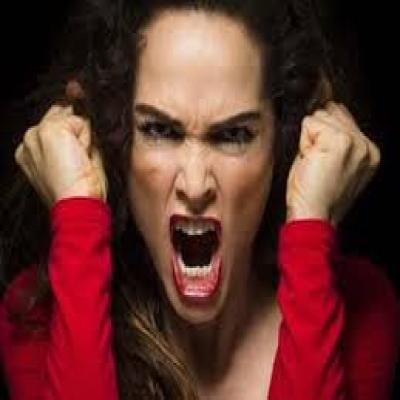angry: (131, 15, 277, 322)
